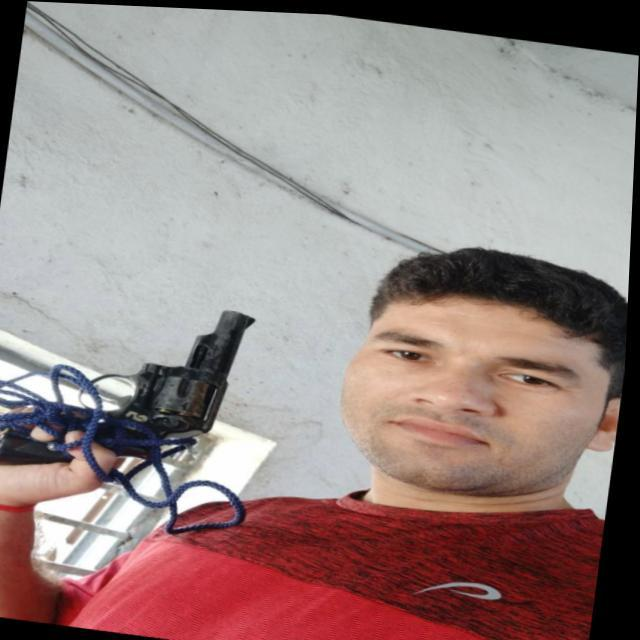weapon: (0, 274, 270, 499)
